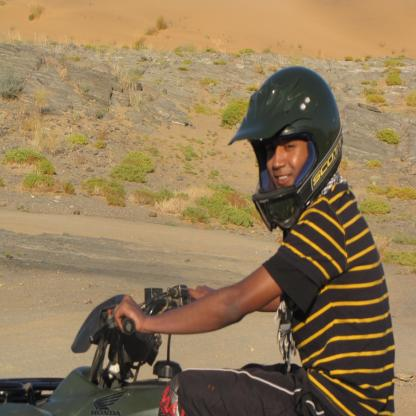Helmet: (227, 73, 349, 238)
